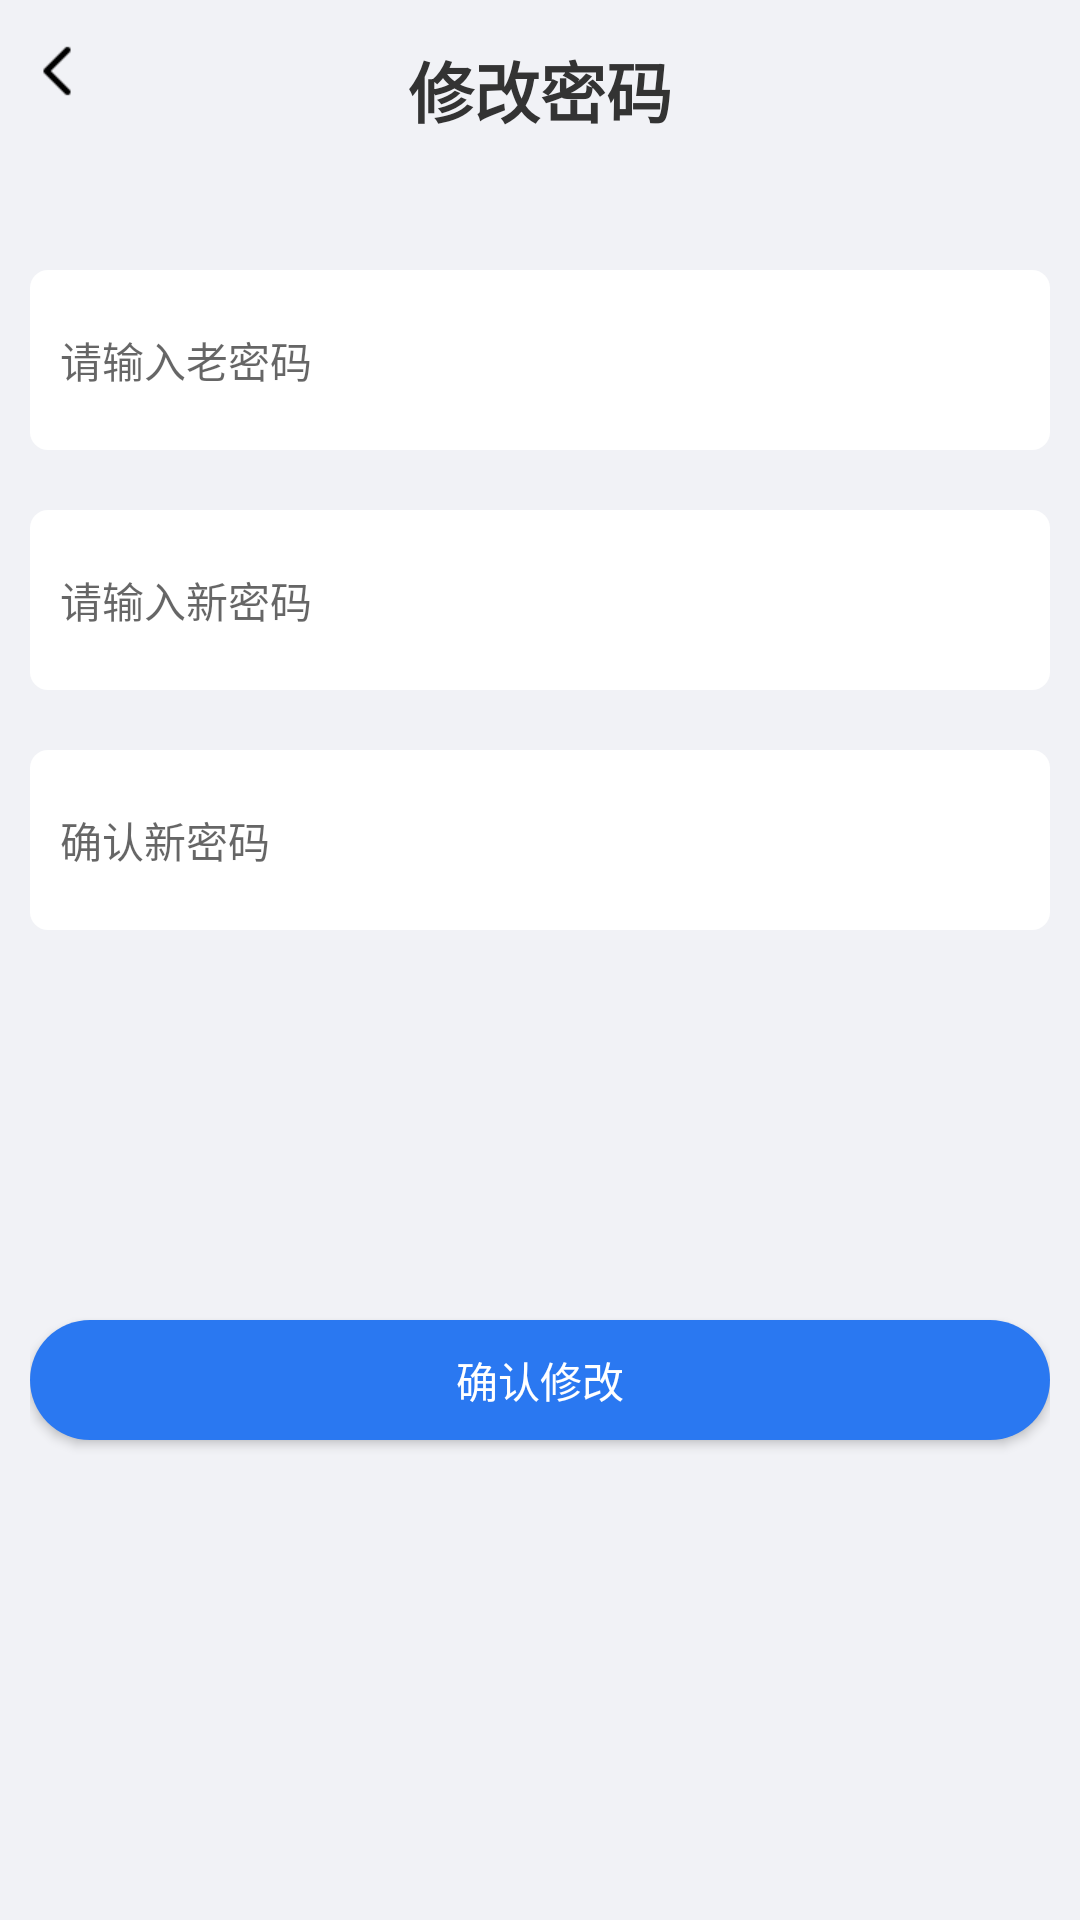

Screen size 1080px×1920px. Icon name, then its center in pixels as (x=x, y=y):
back: (x=57, y=71)
